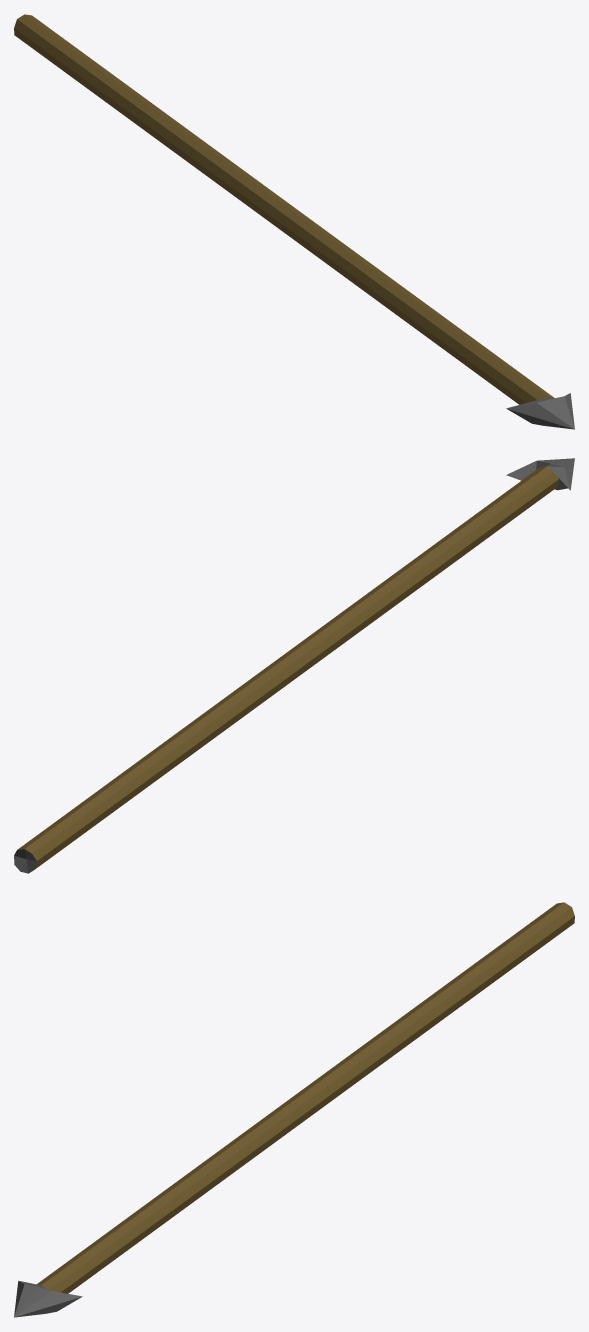
The model's file is Crossbow_Bolt.fbx.
The picture shows the model from 3 angles, top to bottom: view 1: azimuth 30°, elevation 25°; view 2: azimuth 150°, elevation 25°; view 3: azimuth 330°, elevation 25°; orthographic projection.
Parts seen in each view (by area): view 1: polySurface3; view 2: polySurface3; view 3: polySurface3.
Boxes of the visible parts, x1,y1,x2,y2 form: polySurface3: [14, 14, 574, 429]; polySurface3: [14, 458, 574, 873]; polySurface3: [14, 902, 574, 1317].
Bounding box in the file's own units: 2.73 × 1 × 40.24.
